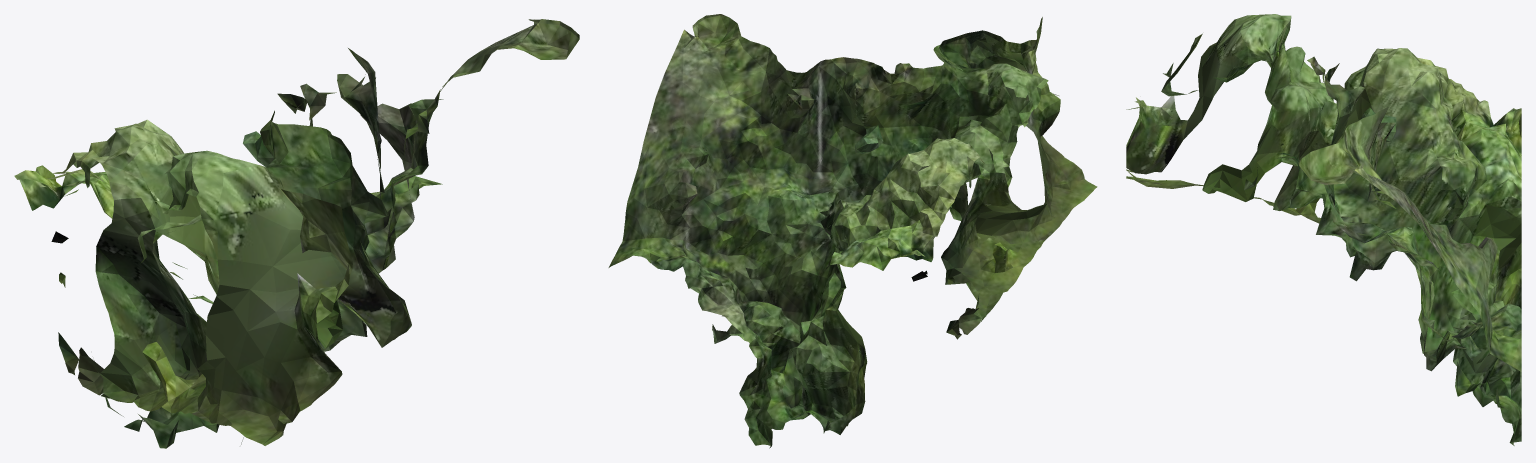
The picture shows the model from 3 angles, left to right: view 1: azimuth 30°, elevation 25°; view 2: azimuth 150°, elevation 25°; view 3: azimuth 270°, elevation 25°; orthographic projection. The views are drawn at different scales.
Bounding box in the file's own units: 26.11 × 26.11 × 26.11.
5 materials, 5 textured.
